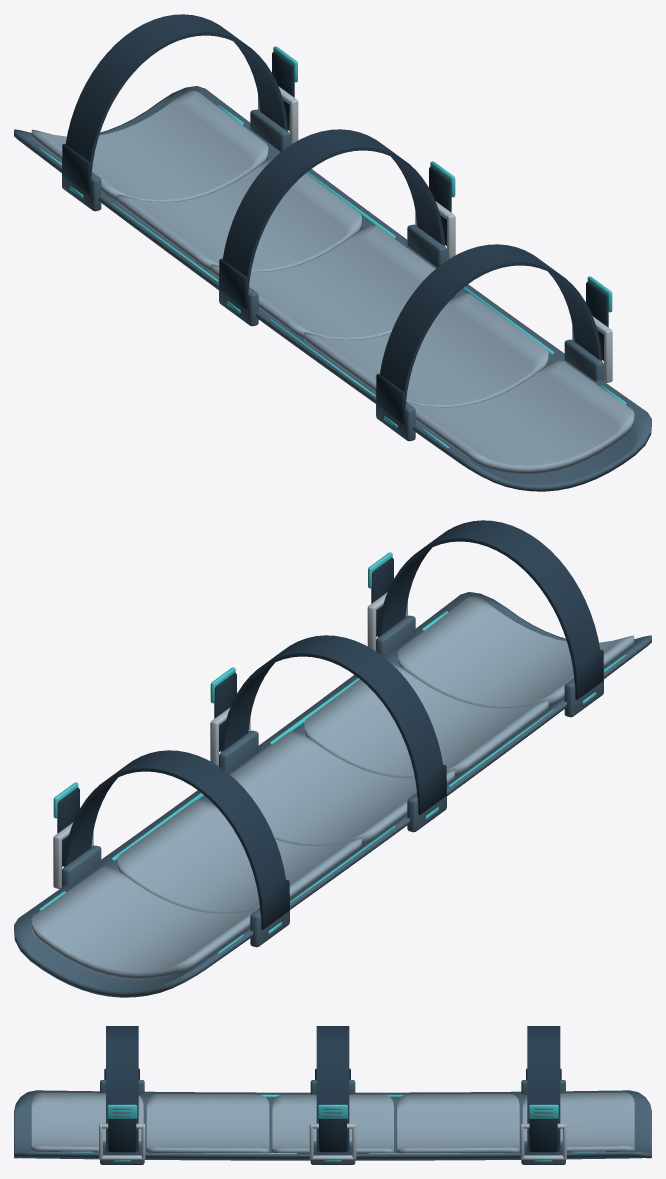
File: FirstAid_UniversalSplint.glb
3 renders of one model, top to bottom at view 1: azimuth 30°, elevation 25°; view 2: azimuth 150°, elevation 25°; view 3: azimuth 270°, elevation 25°, orthographic. The views are drawn at different scales.
Parts seen in each view (by area): view 1: Splint_Main, Splint_Strap_01, Splint_Strap_02, Splint_Strap_03; view 2: Splint_Main, Splint_Strap_03, Splint_Strap_02, Splint_Strap_01; view 3: Splint_Main, Splint_Strap_02, Splint_Strap_03, Splint_Strap_01.
Part boxes in pixels (x1,y1,x2,y2): Splint_Main: (14,86,651,491); Splint_Strap_01: (376,244,612,423); Splint_Strap_02: (219,129,455,308); Splint_Strap_03: (62,14,298,193); Splint_Main: (14,592,651,997); Splint_Strap_03: (53,750,289,929); Splint_Strap_02: (210,635,446,814); Splint_Strap_01: (367,520,603,699); Splint_Main: (14,1080,651,1164); Splint_Strap_02: (309,1026,356,1159); Splint_Strap_03: (520,1026,566,1159); Splint_Strap_01: (99,1026,145,1159).
Bounding box in the file's own units: 0.1713 × 0.1357 × 0.66.
